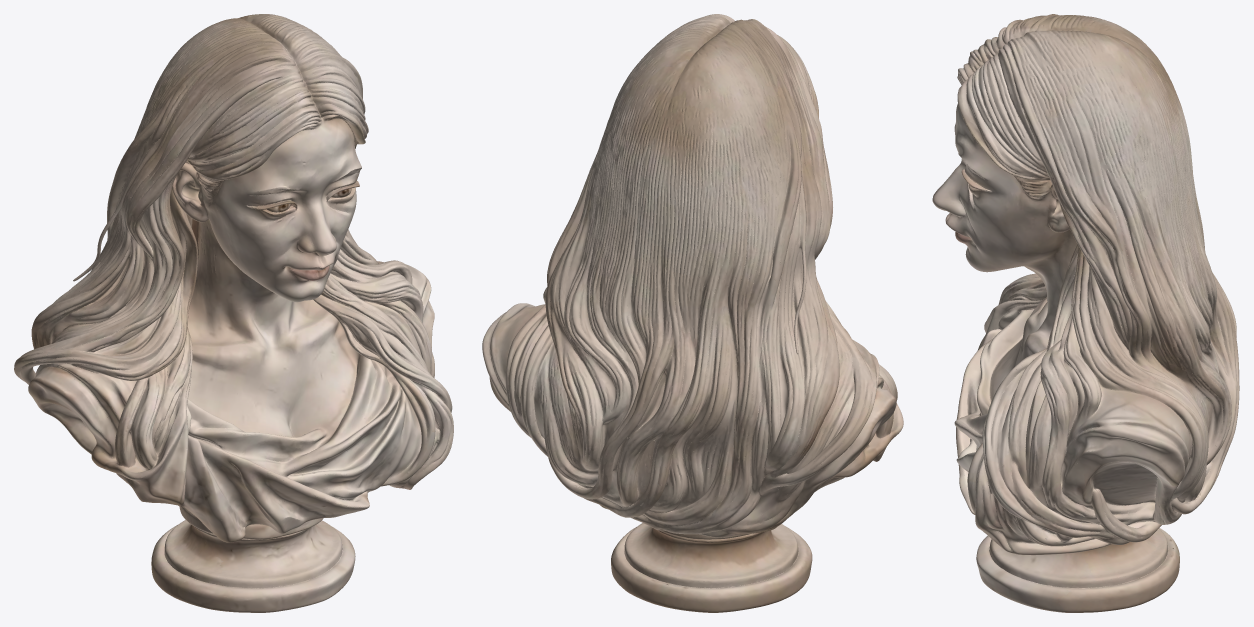
File: 14_손예진.compressed.glb
3 views of the same model, side by side, from view 1: azimuth 30°, elevation 25°; view 2: azimuth 150°, elevation 25°; view 3: azimuth 270°, elevation 25° (orthographic). The views are drawn at different scales.
Parts seen in each view (by area): view 1: model; view 2: model; view 3: model.
Part boxes in pixels (box(x1,y1,x2,y2)): model: box(14, 14, 453, 612); model: box(482, 14, 903, 612); model: box(932, 14, 1239, 612).
Bounding box in the file's own units: 1.41 × 1.9 × 0.9636.
1 material, 1 textured.
